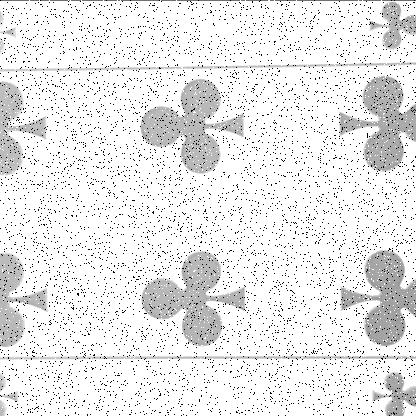6c: (363, 354, 415, 416), (0, 1, 45, 63)
